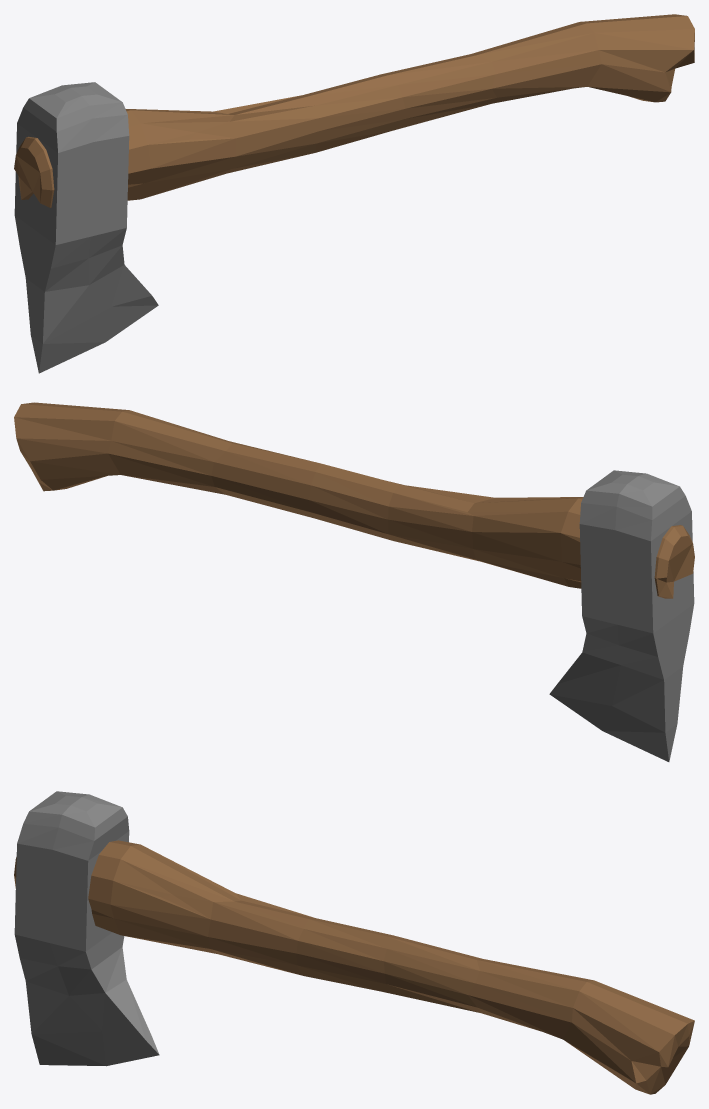
File: FlatAxe.fbx
3 views of the same model, one above another, from view 1: azimuth 30°, elevation 25°; view 2: azimuth 150°, elevation 25°; view 3: azimuth 330°, elevation 25° (orthographic).
Parts seen in each view (by area): view 1: Cube.001; view 2: Cube.001; view 3: Cube.001.
Boxes of the visible parts, bbox=[...] form: Cube.001: bbox=[14, 14, 694, 373]; Cube.001: bbox=[14, 402, 694, 761]; Cube.001: bbox=[14, 791, 694, 1094].
Size of the model in its own units: 787 by 311 by 84.86.
